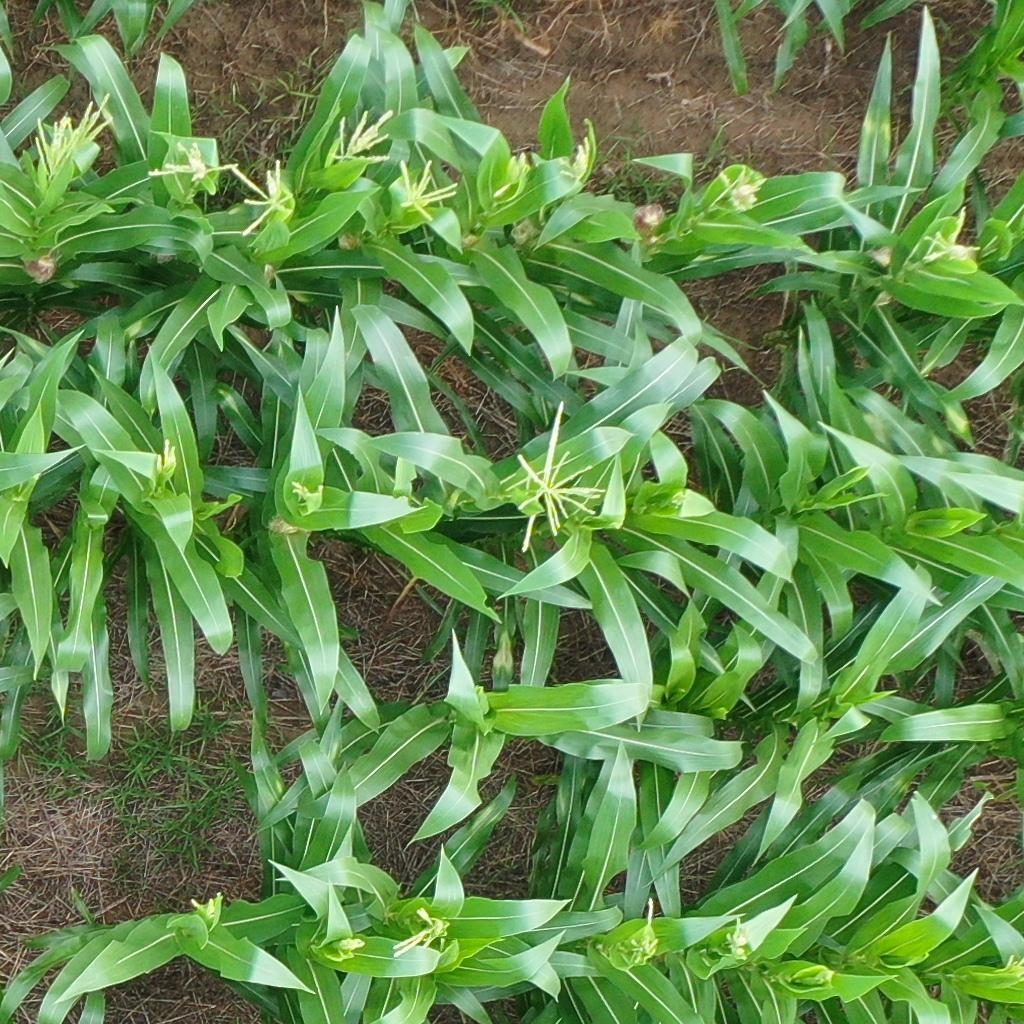Tassel: (513, 397, 611, 551), (35, 90, 117, 174), (143, 136, 236, 190), (228, 160, 292, 233), (398, 156, 459, 221), (328, 110, 395, 167), (919, 205, 978, 265), (392, 903, 443, 960), (623, 896, 659, 973), (715, 165, 764, 215), (487, 147, 530, 196), (561, 135, 595, 185), (287, 477, 328, 512), (724, 915, 750, 967), (151, 437, 182, 477), (184, 893, 218, 925), (328, 935, 364, 957), (997, 954, 1024, 981)
